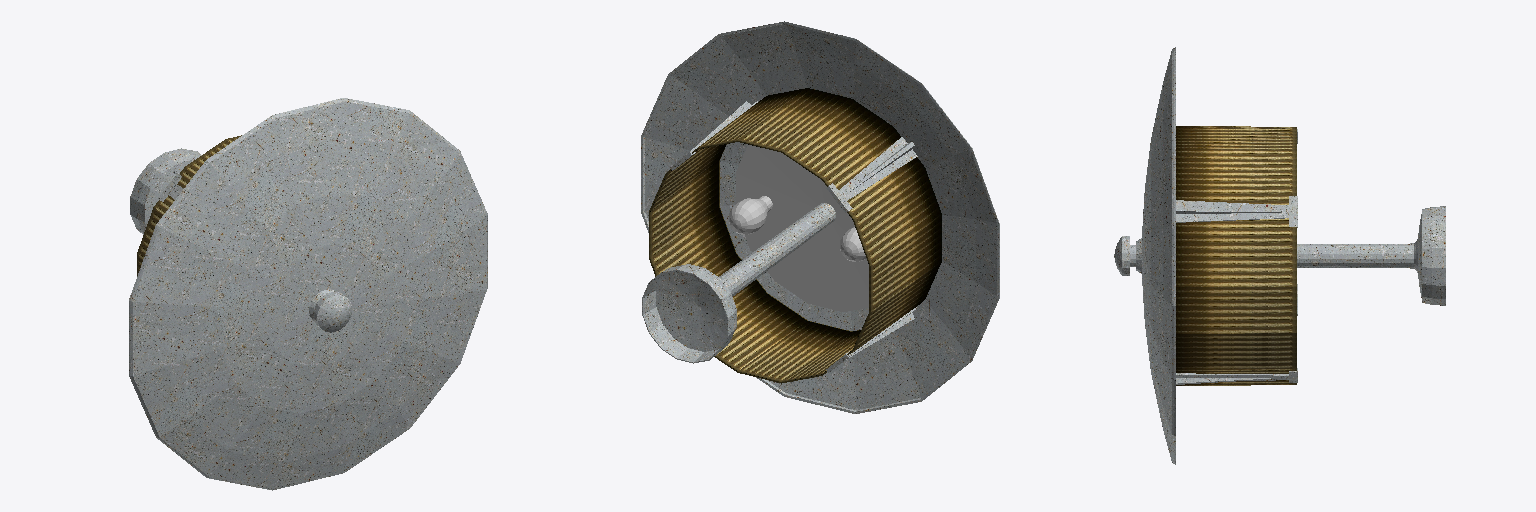
The picture shows the model from 3 angles: view 1: azimuth 30°, elevation 25°; view 2: azimuth 150°, elevation 25°; view 3: azimuth 270°, elevation 25°; orthographic projection.
Parts seen in each view (by area): view 1: RSL_BezierCurve.003; view 2: RSL_BezierCurve.003; view 3: RSL_BezierCurve.003.
Boxes of the visible parts, <box> form: RSL_BezierCurve.003: <box>129,98,487,490</box>; RSL_BezierCurve.003: <box>641,21,999,413</box>; RSL_BezierCurve.003: <box>1114,47,1445,464</box>.
Bounding box in the file's own units: 0.7616 × 0.7616 × 0.6094.
4 materials, 2 textured.